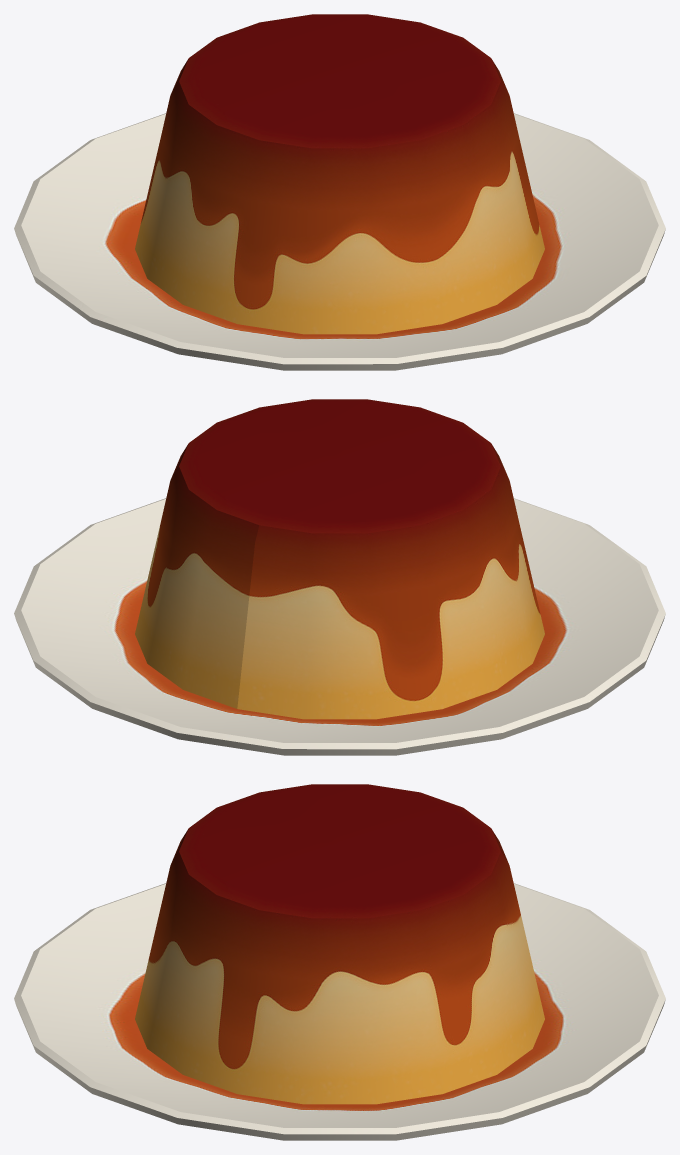
The model's file is Pudding 1.fbx.
3 renders of one model, top to bottom at view 1: azimuth 30°, elevation 25°; view 2: azimuth 150°, elevation 25°; view 3: azimuth 270°, elevation 25°, orthographic.
Visible parts, largest first — view 1: Pudding_1; view 2: Pudding_1; view 3: Pudding_1.
Boxes of the visible parts, x1,y1,x2,y2 form: Pudding_1: [14, 14, 665, 370]; Pudding_1: [14, 399, 665, 755]; Pudding_1: [14, 784, 665, 1140].
Bounding box in the file's own units: 69.2 × 22.82 × 70.27.
1 material, 1 textured.
